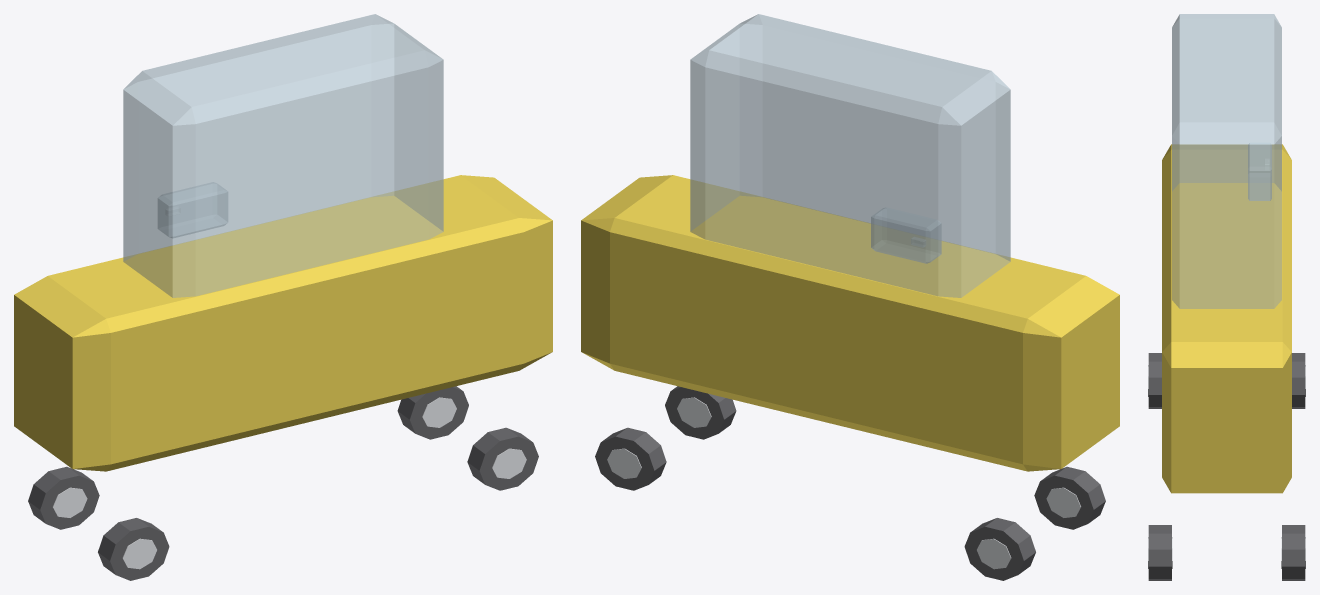
File: b07_self_erecting_tower_crane.glb
3 views of the same model, side by side, from view 1: azimuth 30°, elevation 25°; view 2: azimuth 150°, elevation 25°; view 3: azimuth 270°, elevation 25° (orthographic). The views are drawn at different scales.
Parts seen in each view (by area): view 1: b07_self_erecting_tower_crane; view 2: b07_self_erecting_tower_crane; view 3: b07_self_erecting_tower_crane.
Boxes of the visible parts, x1,y1,x2,y2 form: b07_self_erecting_tower_crane: (14,14,552,580); b07_self_erecting_tower_crane: (581,14,1119,580); b07_self_erecting_tower_crane: (1148,14,1305,580).
Bounding box in the file's own units: 11.39 × 10.04 × 3.4.
